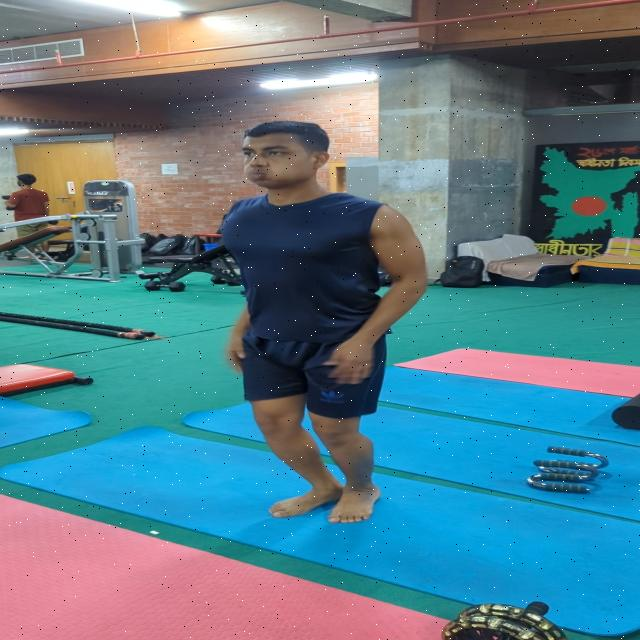Normal_JumpingJacks: (143, 101, 444, 546)
